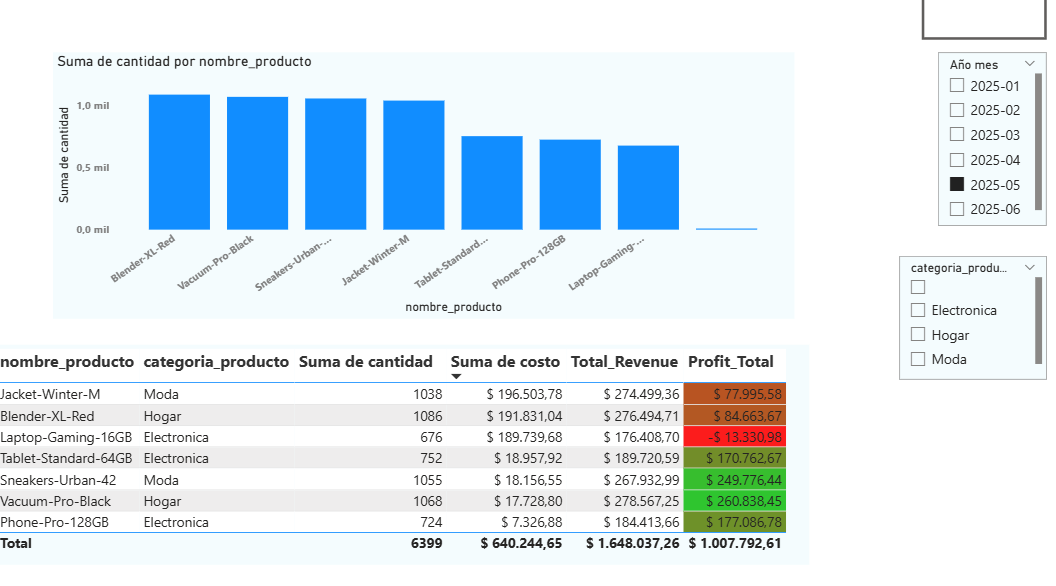

Layout of this report page (visuals, bound fields, positions):
{"tool":"powerbi","page":{"name":"Detalle","canvas":[1280,720],"ordinal":1},"visuals":[{"type":"tableEx","title":"RESUMEN FINANCIERO Y COMERCIAL DE PRODUCTO","fields":{"Values":["orders_clean.nombre_producto","orders_clean.categoria_producto","Sum(orders_clean.cantidad)","Sum(orders_clean.costo)","orders_clean.Total_Revenue","orders_clean.Profit_Total"]},"box":[26.3,406.8,989.1,288.2],"z":0},{"type":"columnChart","title":"VOLUMEN DE VENTAS POR PRODUCTO","fields":{"Category":["orders_clean.nombre_producto"],"Y":["Sum(orders_clean.cantidad)"]},"box":[49.7,51.2,885.2,320.4],"z":1},{"type":"actionButton","box":[1116.4,20.5,146.3,60],"z":2},{"type":"actionButton","box":[0,0,100,40],"z":3},{"type":"slicer","fields":{"Values":["Dim_fecha.Año mes"]},"box":[1135.4,95.1,127.3,203.4],"z":4},{"type":"slicer","fields":{"Values":["orders_clean.categoria_producto"]},"box":[1090.1,333.6,172.7,144.9],"z":5}]}

Visuals, with their boxes on the page's 1280x720 design canvas (x1, y1, x2, y2). These are canvas units, not pixel positions in the 1056x586 screenshot, which may show the page scaled, cropped or inside an application window:
"RESUMEN FINANCIERO Y COMERCIAL DE PRODUCTO" tableEx: 26,407,1015,695
"VOLUMEN DE VENTAS POR PRODUCTO" columnChart: 50,51,935,372
actionButton: 1116,20,1263,80
actionButton: 0,0,100,40
slicer - Dim_fecha.Año mes: 1135,95,1263,298
slicer - orders_clean.categoria_producto: 1090,334,1263,478
